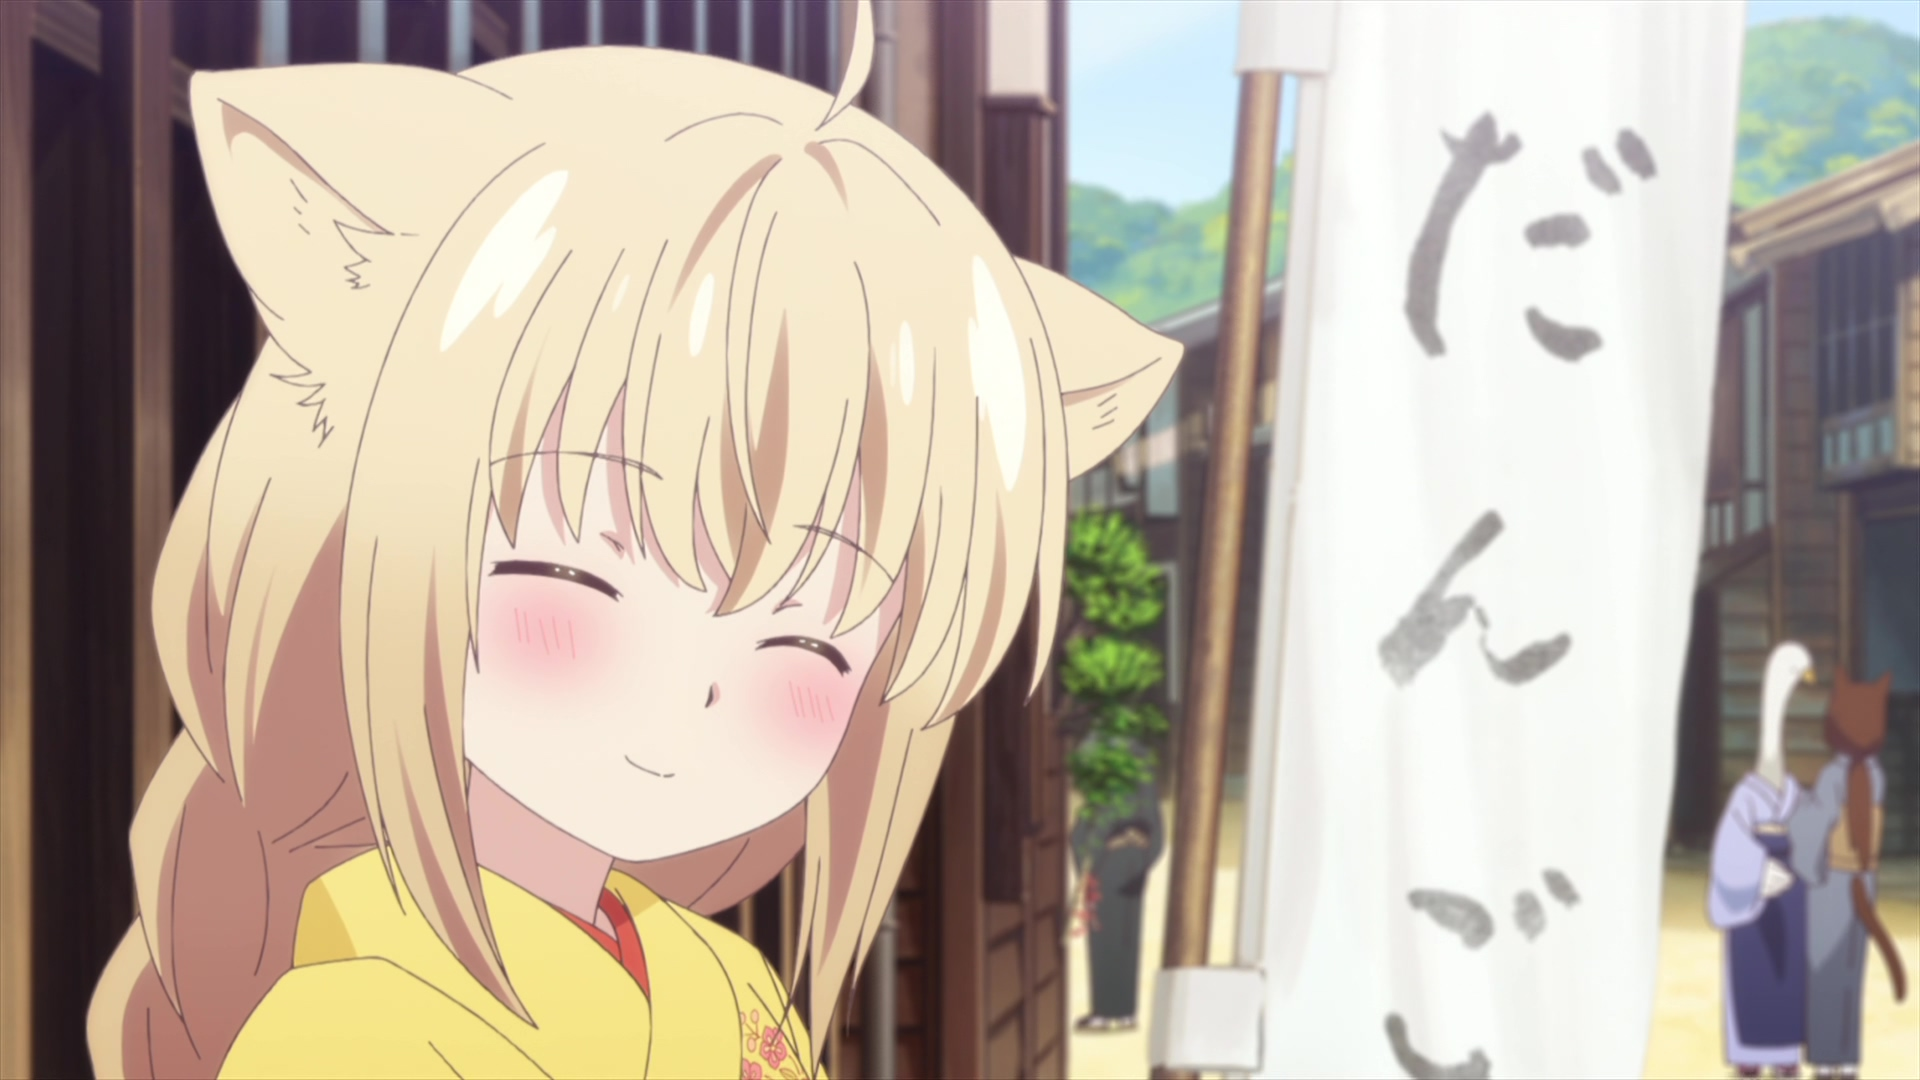其他: (1710, 640, 1817, 1080), (1792, 669, 1905, 1080), (1077, 712, 1167, 1035)
柚: (82, 1, 1185, 1080)
